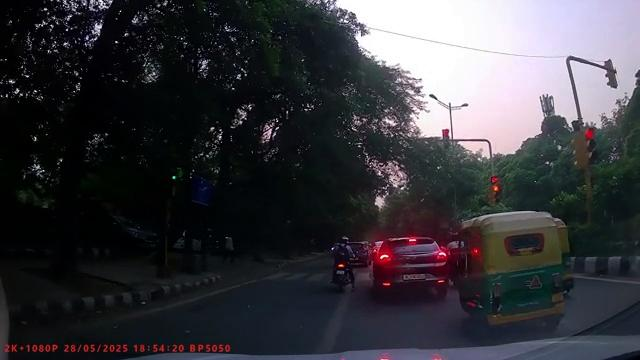motorcycle_with_helmet: (328, 235, 357, 293)
